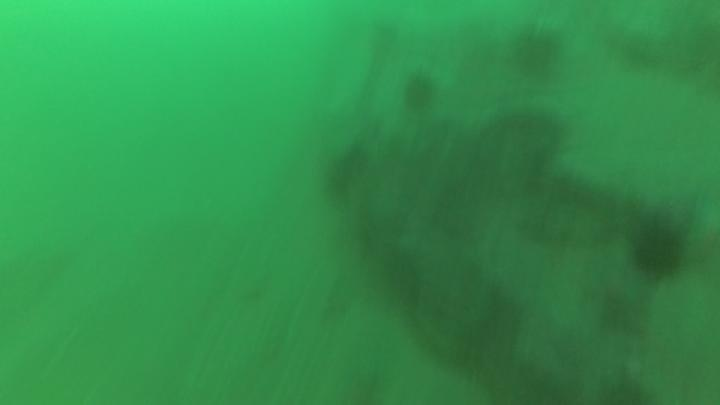echinus: (469, 108, 568, 193), (626, 215, 691, 284), (319, 141, 373, 206), (507, 22, 565, 80), (399, 69, 440, 115)
